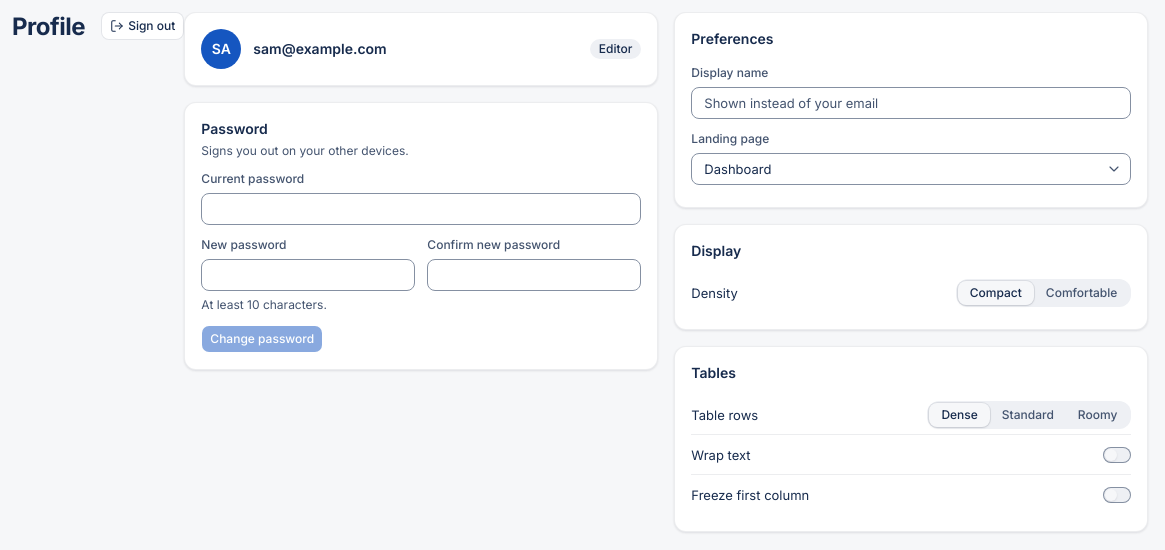
ProfilePage › says what the role can do on hover, and saves preferences when you leave a field
The image size is (1165, 550).
# What the role allows is a tooltip on the role badge now, not a paragraph on the card.
Step 1. Hover over the icon "Editor" → (616, 49), box x1=590 y1=39 x2=641 y2=59
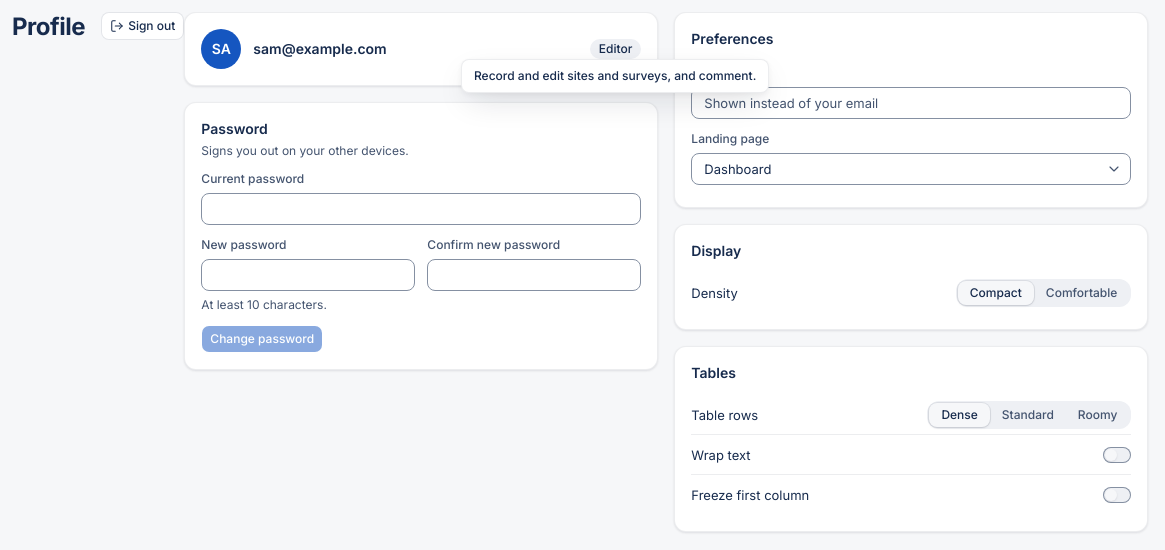
Expected: the tooltip "Record and edit sites and surveys, and comment." is shown, x1=461 y1=59 x2=769 y2=93
Step 2. Type "Sam Surveyor" into the field labelled "Display name" → (911, 103), box x1=691 y1=87 x2=1131 y2=119
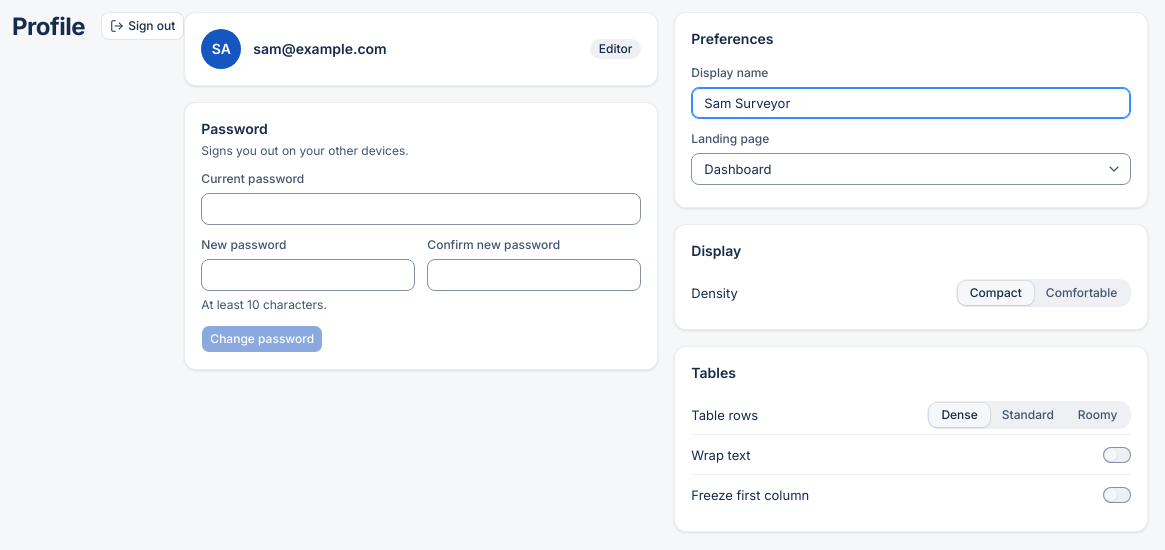
# Leaving the field saves it.
Step 3. Press Tab
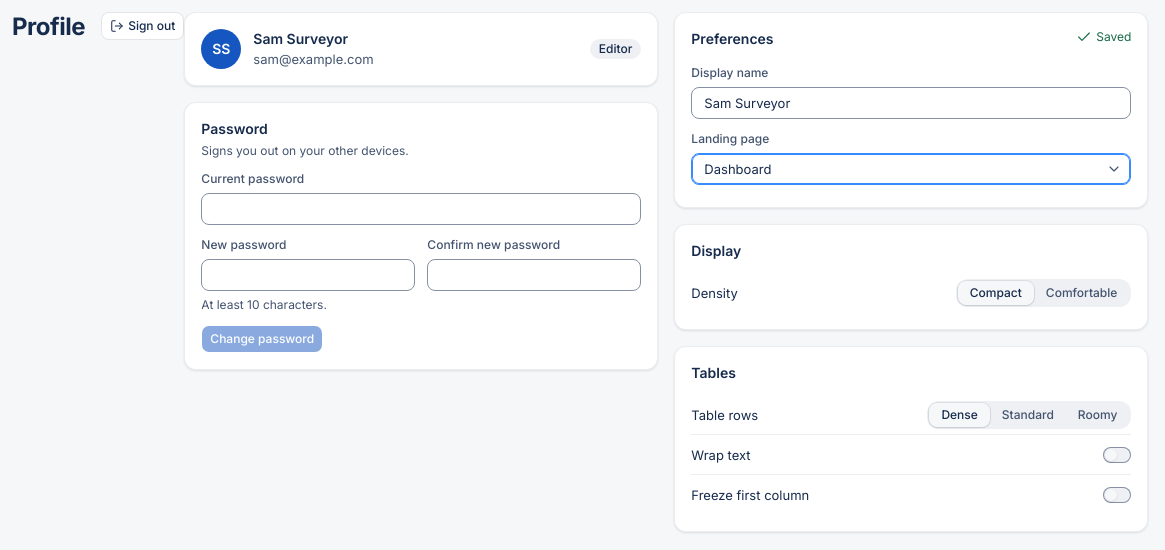
Expected: the text "SS" is shown, x1=201 y1=29 x2=241 y2=69
Expected: the message reads "Saved", x1=1096 y1=29 x2=1131 y2=44
Expected: the text "Sam Surveyor" is shown, x1=253 y1=30 x2=348 y2=47
